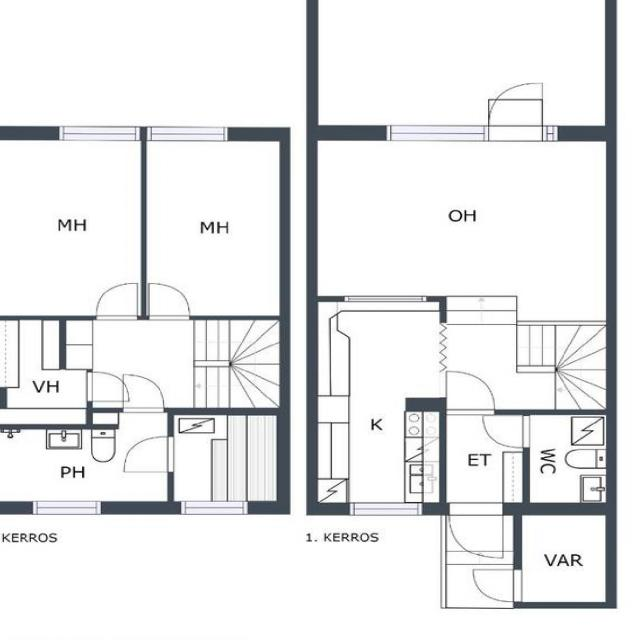door: (489, 83, 543, 141), (449, 503, 503, 558), (448, 373, 494, 414), (124, 437, 174, 472), (474, 570, 522, 601), (124, 376, 164, 413), (483, 416, 529, 448), (150, 284, 190, 320), (98, 284, 138, 320), (87, 372, 130, 401)
